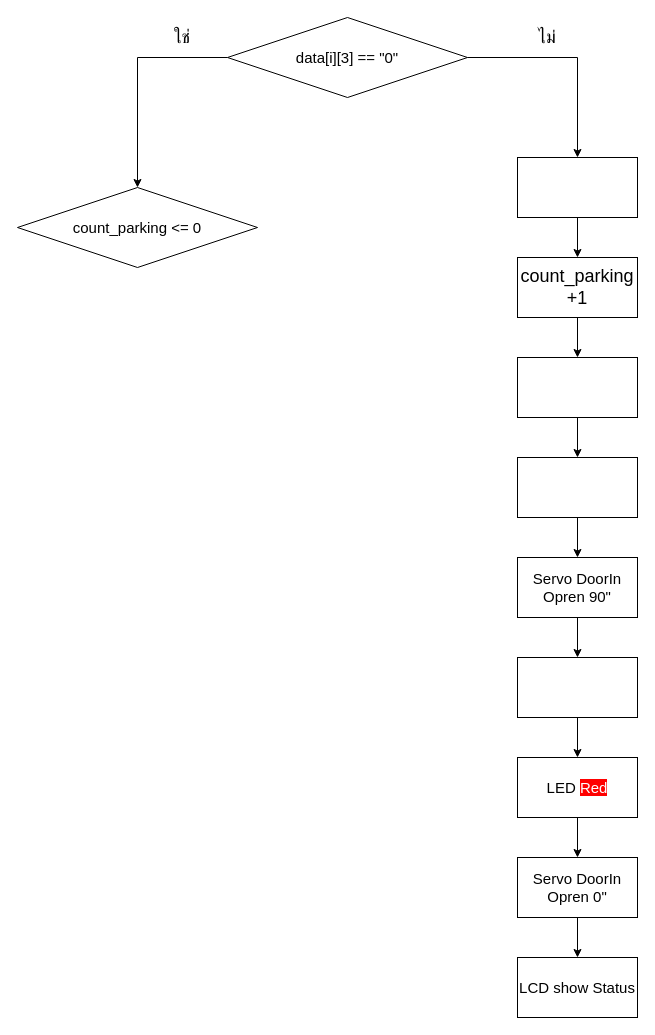
Some shapes in this 655 by 1035 pixel diagram are drawn without their labels. The shapes that lost their labels are listed below. From the top down, each one's centre as x and y in pixels, then its label:
the point at 577,187: LCD show "Door is Opening."
the point at 577,387: LED Green
the point at 577,487: infr_out == 0
the point at 577,687: infr_in Read
